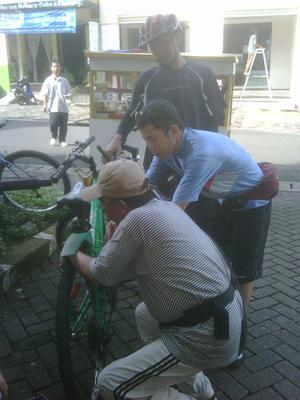person: (63, 159, 246, 398)
